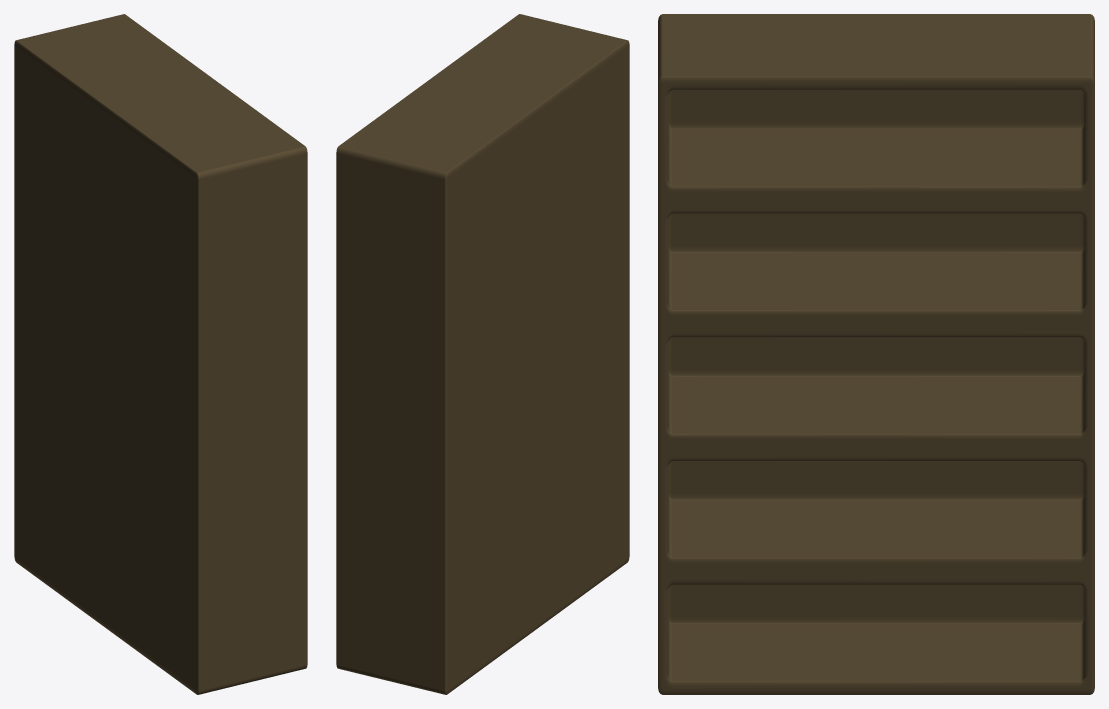
The model's file is estanteriabuena.fbx.
3 renders of one model, left to right at view 1: azimuth 30°, elevation 25°; view 2: azimuth 150°, elevation 25°; view 3: azimuth 270°, elevation 25°, orthographic. The views are drawn at different scales.
Visible parts, largest first — view 1: Cube; view 2: Cube; view 3: Cube.
Part boxes in pixels (box(x1,y1,x2,y2)): Cube: box(14, 14, 307, 694); Cube: box(336, 14, 629, 694); Cube: box(658, 14, 1094, 694).
Size of the model in its own units: 37.62 by 170 by 109.
